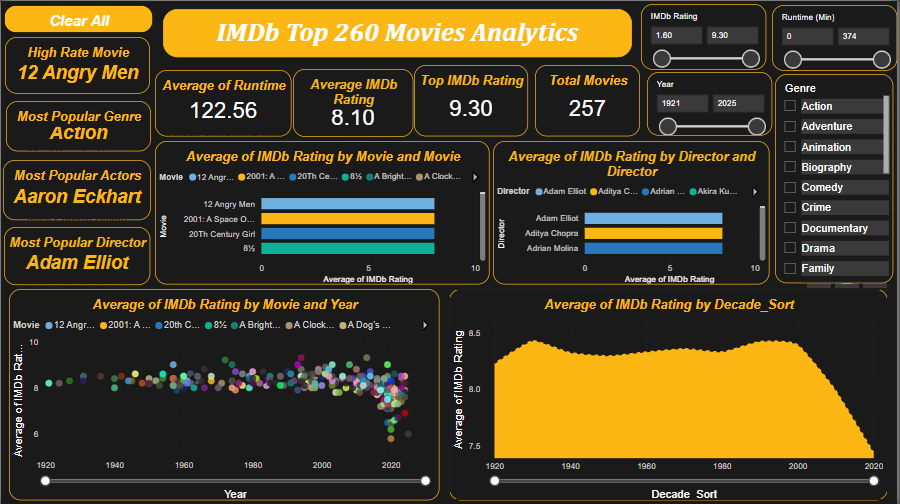

This screenshot's page, from the dashboard's own definition file:
{"tool":"powerbi","page":{"name":"Page 1","canvas":[1280,720],"ordinal":0},"visuals":[{"type":"stackedAreaChart","fields":{"Category":["tmdb_top260_with_imdb.Decade_Sort"],"Y":["Avg(tmdb_top260_with_imdb.IMDb Rating)"]},"box":[640,411.7,626.7,301.7],"z":0},{"type":"barChart","fields":{"Category":["Actors_Table.Movie"],"Y":["Avg(tmdb_top260_with_imdb.IMDb Rating)"],"Series":["Actors_Table.Movie"]},"box":[220,200.7,478.3,205],"z":1000},{"type":"card","title":"Average of Runtime ","fields":{"Values":["Avg(tmdb_top260_with_imdb.Runtime (Min))"]},"box":[220,98.3,195,95],"z":2000},{"type":"card","title":"Total Movies","fields":{"Values":["tmdb_top260_with_imdb.Total Movies"]},"box":[763.3,91.7,150,101.7],"z":3000},{"type":"card","title":"Top IMDb Rating","fields":{"Values":["tmdb_top260_with_imdb.Top IMDb Rating"]},"box":[590,91.7,163.3,101.7],"z":4000},{"type":"card","title":"Average IMDb Rating","fields":{"Values":["tmdb_top260_with_imdb.Average IMDb Rating"]},"box":[416.7,96.7,171.7,96.7],"z":5000},{"type":"barChart","fields":{"Category":["Director_Table.Director"],"Y":["Avg(tmdb_top260_with_imdb.IMDb Rating)"],"Series":["Director_Table.Director"]},"box":[703.3,200,395,205],"z":6000},{"type":"scatterChart","fields":{"Y":["Avg(tmdb_top260_with_imdb.IMDb Rating)"],"Series":["tmdb_top260_with_imdb.Movie"],"X":["tmdb_top260_with_imdb.Year"]},"box":[11.7,411.7,615,301.7],"z":7000},{"type":"slicer","fields":{"Values":["tmdb_top260_with_imdb.Runtime (Min)"]},"box":[1101.4,5.7,178.6,94.3],"z":8000},{"type":"slicer","fields":{"Values":["tmdb_top260_with_imdb.IMDb Rating"]},"box":[914.3,4.3,178.6,94.3],"z":9000},{"type":"slicer","fields":{"Values":["Genres_Table.Genre"]},"box":[1105.7,104.3,168.6,298.6],"z":10000},{"type":"slicer","fields":{"Values":["tmdb_top260_with_imdb.Year"]},"box":[922.9,101.4,178.6,91.4],"z":11000},{"type":"card","title":"High Rate Movie","fields":{"Values":["Min(Actors_Table.Movie)"]},"box":[5.7,51.4,207.1,81.4],"z":12000},{"type":"card","title":"Most Popular Director","fields":{"Values":["Min(Director_Table.Director)"]},"box":[4.3,322.9,208.6,82.9],"z":13000},{"type":"card","title":"Most Popular Actors","fields":{"Values":["Min(Actors_Table.Actors)"]},"box":[2.9,227.1,211.4,85.7],"z":14000},{"type":"card","title":"Most Popular Genre","fields":{"Values":["Min(Genres_Table.Genre)"]},"box":[6.7,143.3,206.7,71.7],"z":15000},{"type":"textbox","box":[231.4,11.4,670,68.6],"z":16000},{"type":"actionButton","box":[0,2.7,108.2,46.1],"z":17000},{"type":"actionButton","box":[108.2,2.7,104.6,46.1],"z":18000}]}

Visuals, with their boxes in screenshot pixels (x1, y1, x2, y2), scaled from the page's 1280x720 canvas onto the 900x504 screenshot:
stackedAreaChart - tmdb_top260_with_imdb.Decade_Sort x Avg(tmdb_top260_with_imdb.IMDb Rating): box(450, 288, 891, 499)
barChart - Actors_Table.Movie x Avg(tmdb_top260_with_imdb.IMDb Rating): box(155, 140, 491, 284)
"Average of Runtime " card: box(155, 69, 292, 135)
"Total Movies" card: box(537, 64, 642, 135)
"Top IMDb Rating" card: box(415, 64, 530, 135)
"Average IMDb Rating" card: box(293, 68, 414, 135)
barChart - Director_Table.Director x Avg(tmdb_top260_with_imdb.IMDb Rating): box(495, 140, 772, 284)
scatterChart - Avg(tmdb_top260_with_imdb.IMDb Rating) x tmdb_top260_with_imdb.Movie: box(8, 288, 441, 499)
slicer - tmdb_top260_with_imdb.Runtime (Min): box(774, 4, 899, 70)
slicer - tmdb_top260_with_imdb.IMDb Rating: box(643, 3, 768, 69)
slicer - Genres_Table.Genre: box(777, 73, 896, 282)
slicer - tmdb_top260_with_imdb.Year: box(649, 71, 774, 135)
"High Rate Movie" card: box(4, 36, 150, 93)
"Most Popular Director" card: box(3, 226, 150, 284)
"Most Popular Actors" card: box(2, 159, 151, 219)
"Most Popular Genre" card: box(5, 100, 150, 150)
textbox: box(163, 8, 634, 56)
actionButton: box(0, 2, 76, 34)
actionButton: box(76, 2, 150, 34)
